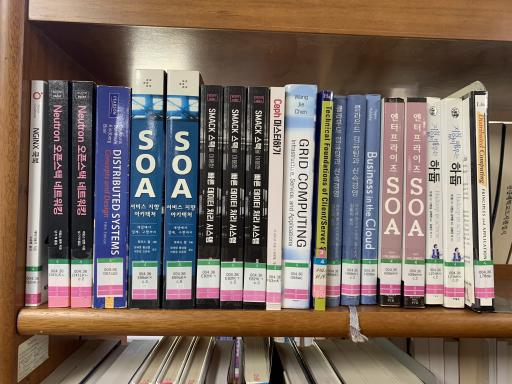book-spine: (163, 70, 200, 310), (92, 85, 130, 308), (130, 68, 164, 309), (281, 84, 317, 309), (196, 85, 223, 310), (220, 86, 246, 309), (244, 87, 269, 310), (342, 94, 366, 306), (404, 97, 428, 308), (381, 98, 405, 306), (473, 91, 495, 312), (48, 80, 69, 307), (71, 81, 92, 307), (359, 94, 381, 305), (326, 95, 347, 307), (313, 90, 333, 310), (25, 81, 43, 305), (267, 88, 285, 310), (446, 98, 464, 308), (427, 97, 443, 305)
